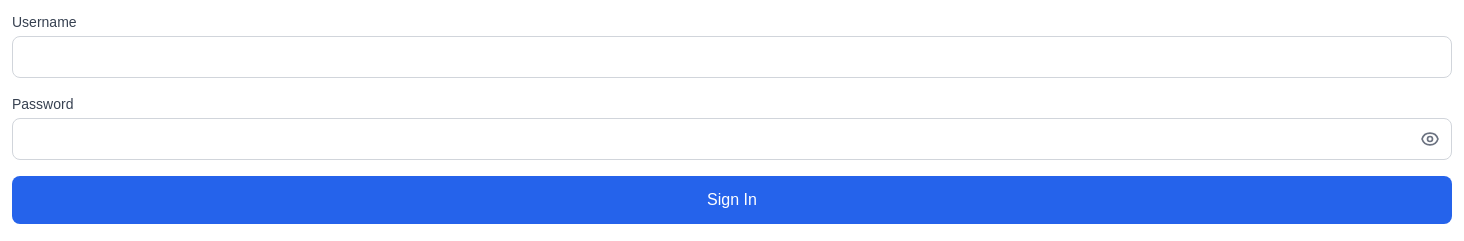
LoginForm › disables form while loading
Step 1. Type "testuser" into the field labelled "Username" → (732, 57), box [12,36,1452,78]
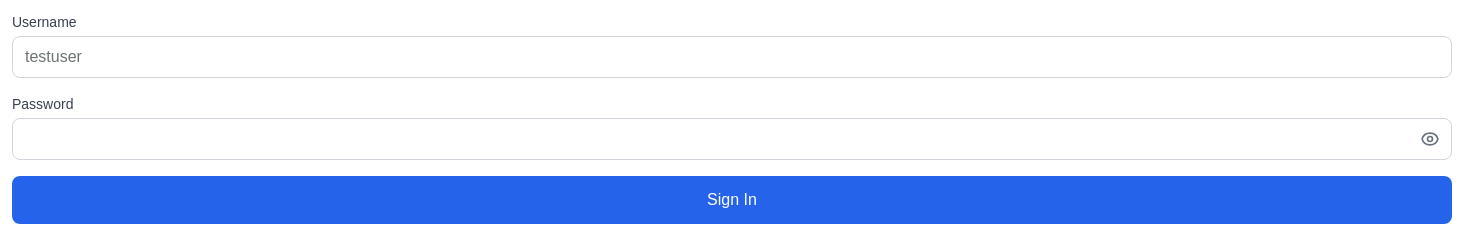
Step 2. Type "password123" into the password field labelled "Password" → (732, 139), box [12,118,1452,160]
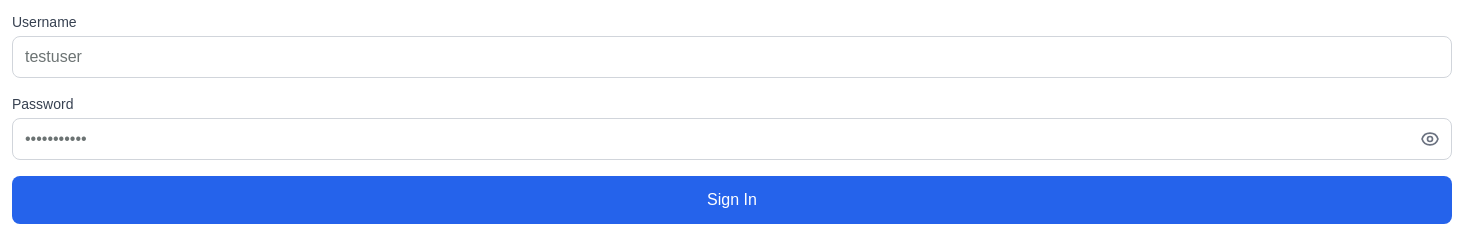
Step 3. Click the button "Sign In" → (732, 200), box [12,176,1452,224]
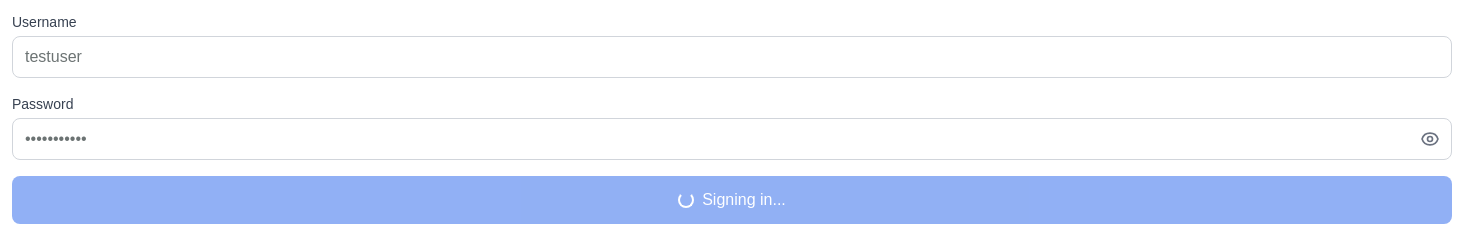
Expected: the field labelled "Username" is disabled, [12,36,1452,78]
Result: the button "Signing in..." is disabled at [12,176,1452,224]
